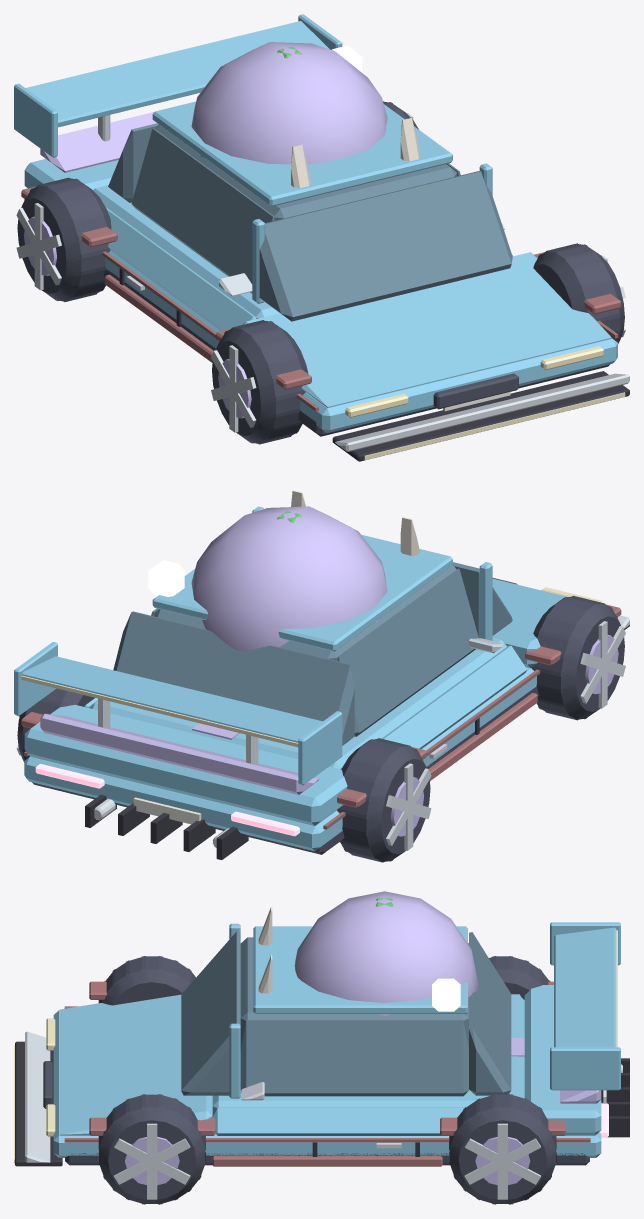
Rendered from dragonfruit_drifter.fbx.
3 renders of one model, top to bottom at view 1: azimuth 30°, elevation 25°; view 2: azimuth 150°, elevation 25°; view 3: azimuth 270°, elevation 25°, orthographic. The views are drawn at different scales.
Parts seen in each view (by area): view 1: Body, Glass, Accent2, Wheel_FR, Wheel_RR, Accent3, Accent, Wheel_FL, Trim, Metal, Light, Trim2 (+2 smaller); view 2: Body, Glass, Accent2, Wheel_FR, Wheel_RR, Metal, Accent, Trim, Light, Light2, Wheel_RL, Metal2 (+4 smaller); view 3: Body, Glass, Accent2, Wheel_FL, Wheel_RL, Accent, Metal, Wheel_FR, Trim, Accent3, Trim2, Metal2 (+4 smaller).
Boxes of the visible parts, x1,y1,x2,y2 form: Body: [14, 14, 617, 433]; Glass: [108, 123, 512, 321]; Accent2: [40, 42, 387, 172]; Wheel_FR: [212, 320, 308, 444]; Wheel_RR: [17, 177, 111, 301]; Accent3: [219, 224, 629, 451]; Accent: [21, 186, 621, 411]; Wheel_FL: [533, 243, 624, 343]; Trim: [119, 268, 629, 461]; Metal: [16, 113, 625, 432]; Light: [345, 346, 625, 459]; Trim2: [103, 268, 609, 436]; Body: [14, 506, 617, 851]; Glass: [113, 562, 512, 745]; Accent2: [40, 506, 387, 794]; Wheel_FR: [531, 596, 624, 720]; Wheel_RR: [337, 738, 430, 862]; Metal: [16, 621, 625, 850]; Accent: [21, 604, 621, 829]; Trim: [85, 625, 629, 859]; Light: [21, 587, 603, 746]; Light2: [35, 764, 299, 836]; Wheel_RL: [17, 688, 94, 762]; Metal2: [391, 635, 618, 836]; Body: [53, 922, 620, 1157]; Glass: [181, 931, 511, 1096]; Accent2: [240, 891, 601, 1103]; Wheel_FL: [98, 1094, 205, 1204]; Wheel_RL: [449, 1094, 556, 1204]; Accent: [64, 981, 590, 1166]; Metal: [114, 1064, 622, 1199]; Wheel_FR: [98, 956, 195, 1005]; Trim: [15, 1041, 629, 1166]; Accent3: [25, 1031, 264, 1162]; Trim2: [43, 1061, 589, 1165]; Metal2: [125, 1137, 530, 1185].
Bounding box in the file's own units: 3.4 × 2.22 × 5.4.
